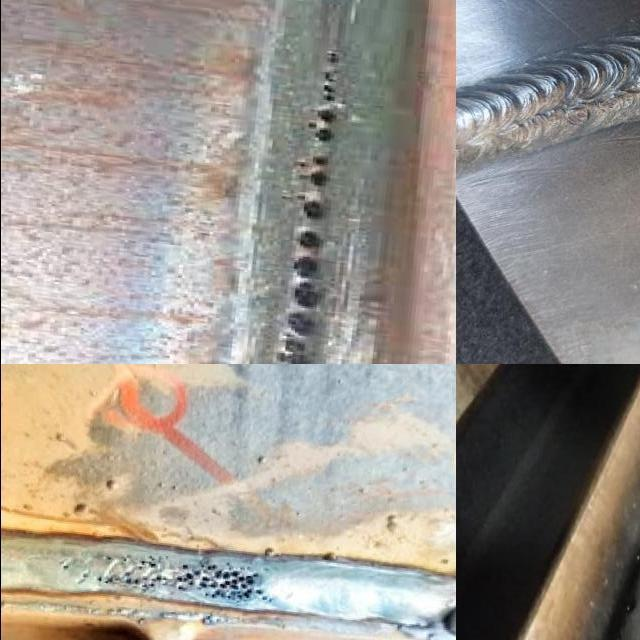defect: (272, 152, 336, 364), (56, 551, 171, 594), (170, 560, 276, 606), (303, 44, 343, 147), (564, 108, 589, 125), (598, 94, 622, 111), (621, 596, 636, 614), (633, 545, 640, 566)
